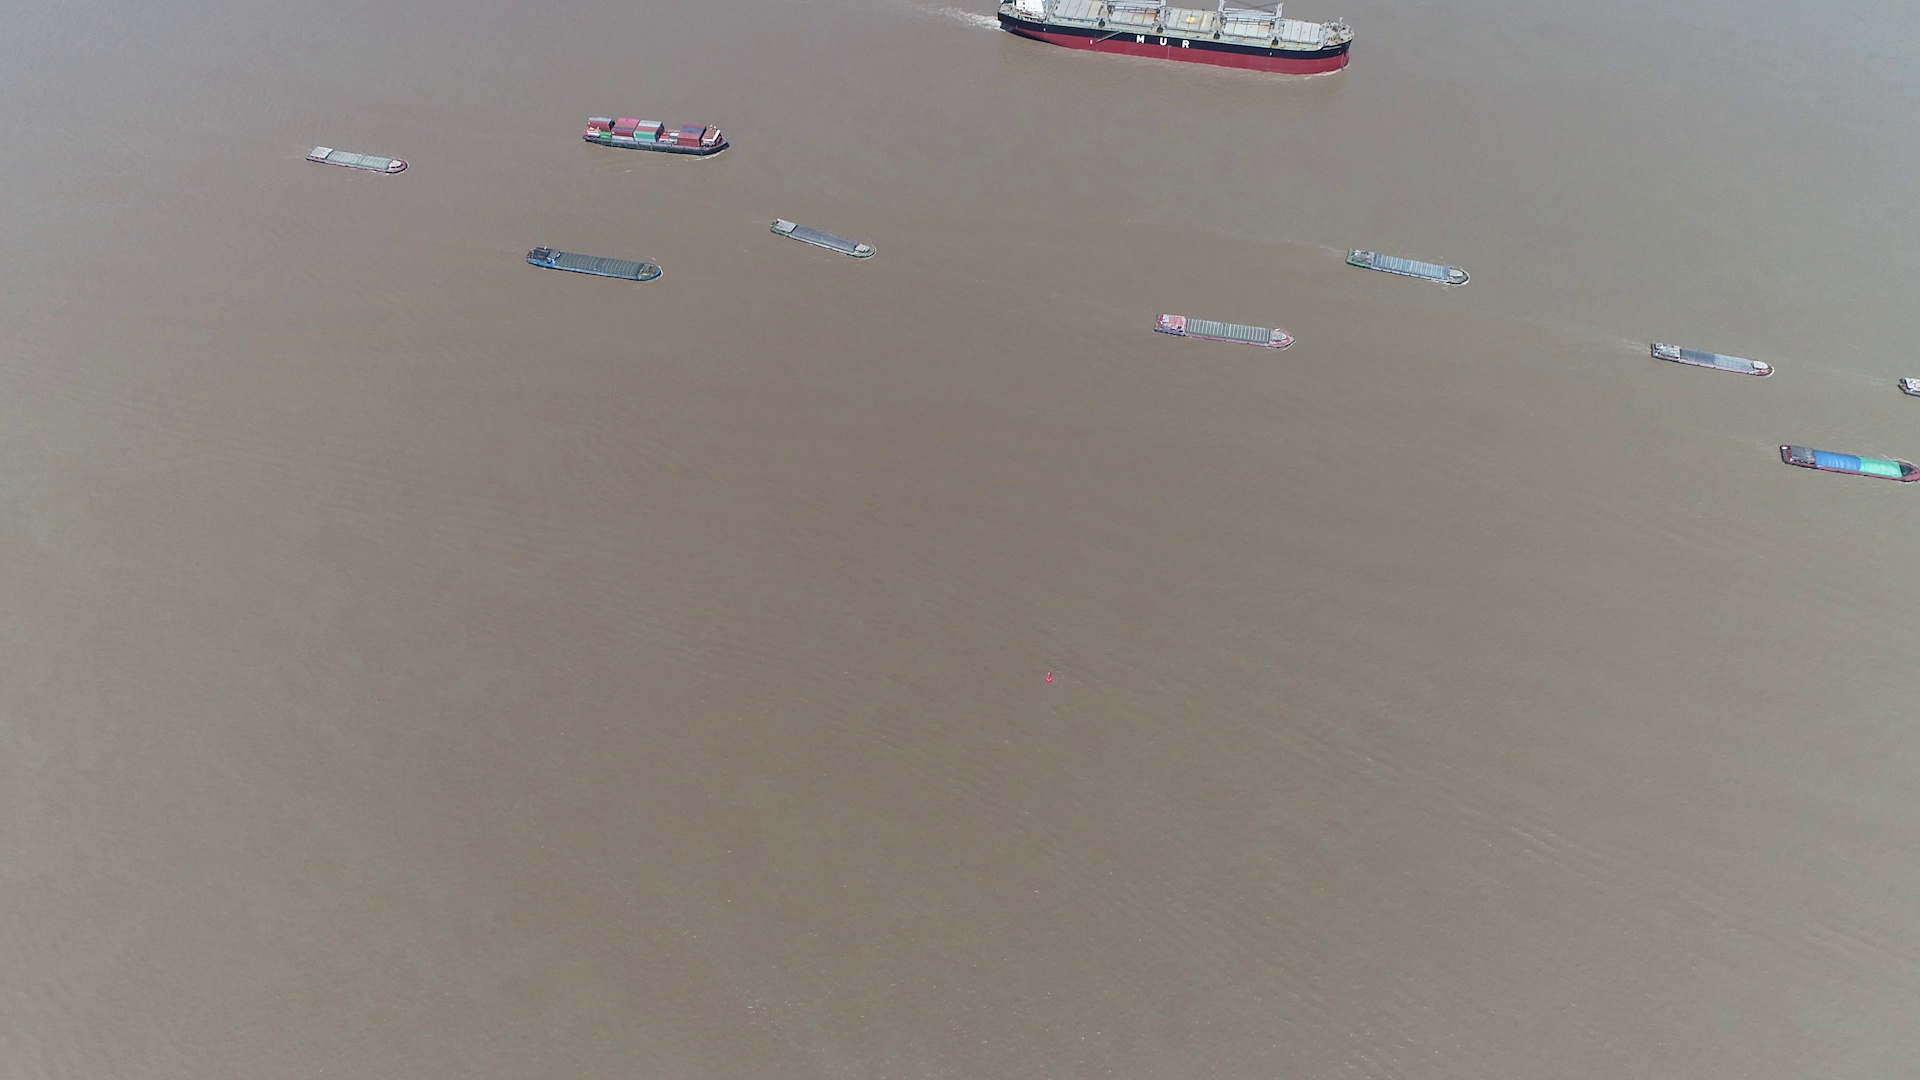ship: (998, 0, 1356, 73), (582, 115, 729, 156), (1778, 444, 1919, 484), (1154, 313, 1294, 349), (1345, 245, 1469, 286), (526, 247, 661, 284), (1648, 340, 1774, 376), (773, 218, 877, 260), (305, 144, 407, 174), (1898, 375, 1920, 397)
